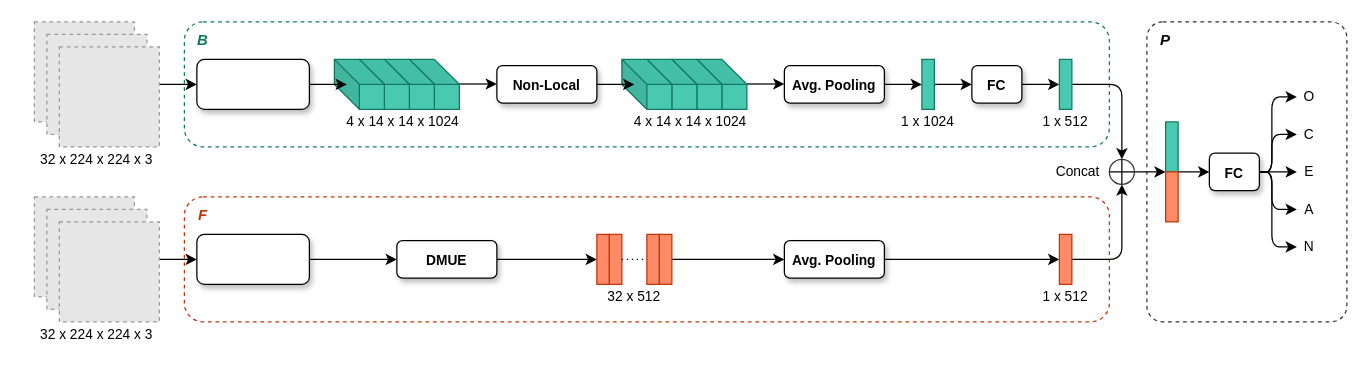
Image size: 1369x369. Some labels were removed from this diagram. Grey dashed boxes stand in for pictures. Each missing label, with the centre of its shape:
"ResNet-18" belongs at pixel 254 260.
"ResNet-3D-50" belongs at pixel 254 85.
